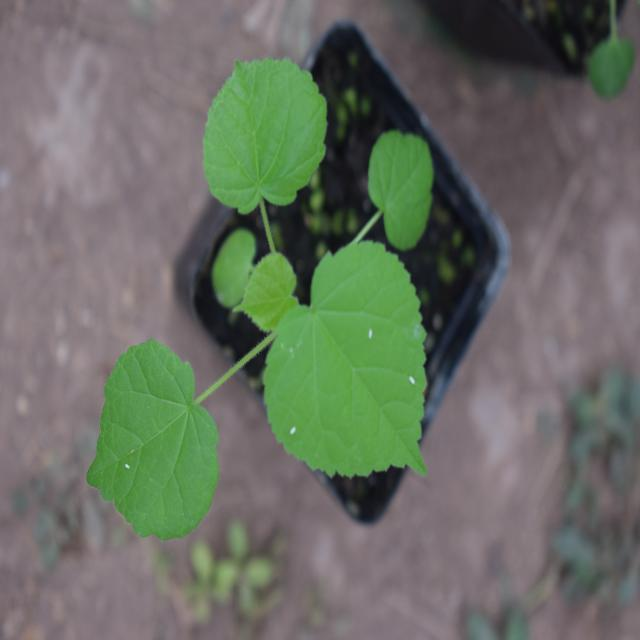abutilon theophrasti: (61, 54, 492, 530)
